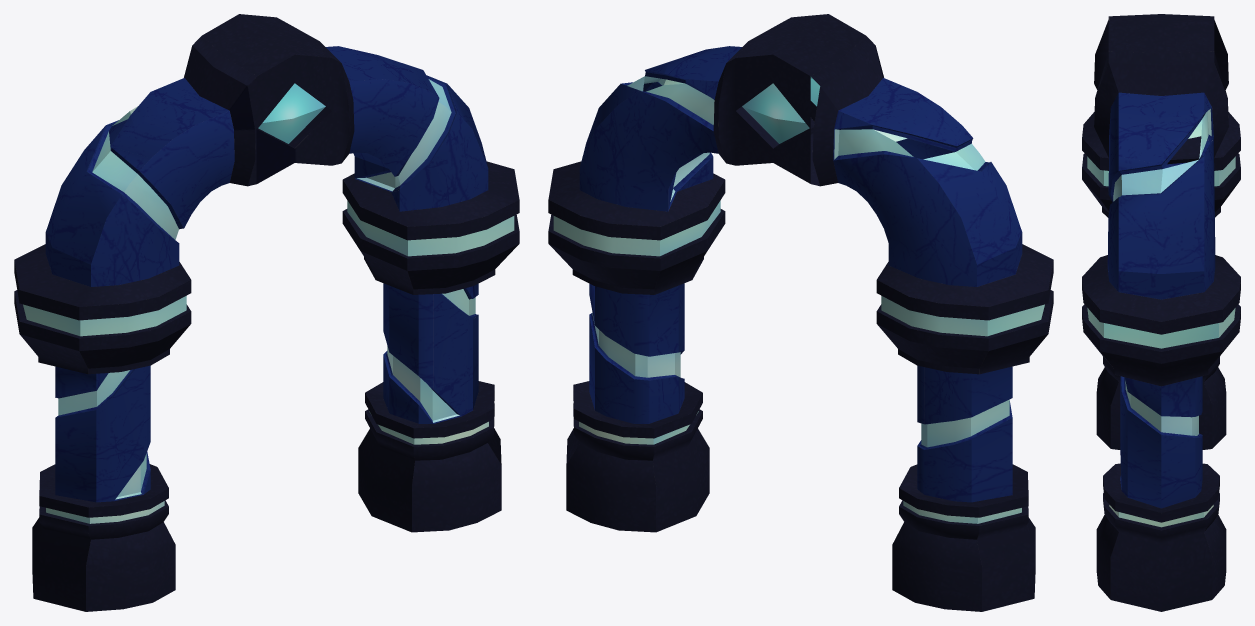
Rendered from ARCO4_R.obj.
3 views of the same model, side by side, from view 1: azimuth 30°, elevation 25°; view 2: azimuth 150°, elevation 25°; view 3: azimuth 270°, elevation 25° (orthographic). The views are drawn at different scales.
Parts seen in each view (by area): view 1: pCube1_pCube1SG1_29, pCube1_pCube1SG1_13, pCube1_pCube1SG_25, pCube1_pCube1SG_2, pCube1_pCube1SG_12, pCube1_pCube1SG1_16, pCube1_pCube1SG1_26, pCube1_pCube1SG, pCube1_pCube1SG_37, pCube1_pCube1SG_27, pCube1_pCube1SG1_10, pCube1_pCube1SG1_21 (+42 smaller); view 2: pCube1_pCube1SG1_29, pCube1_pCube1SG1_13, pCube1_pCube1SG_27, pCube1_pCube1SG_2, pCube1_pCube1SG_4, pCube1_pCube1SG_13, pCube1_pCube1SG1_18, pCube1_pCube1SG1_26, pCube1_pCube1SG1_7, pCube1_pCube1SG1_20, pCube1_pCube1SG_38, pCube1_pCube1SG1_4 (+41 smaller); view 3: pCube1_pCube1SG1_13, pCube1_pCube1SG_2, pCube1_pCube1SG1, pCube1_pCube1SG1_2, pCube1_pCube1SG, pCube1_pCube1SG1_10, pCube1_pCube1SG_3, pCube1_pCube1SG_4, pCube1_pCube1SG_19, pCube1_pCube1SG_1, pCube1_pCube1SG2_17, pCube1_pCube1SG_6 (+36 smaller).
Part boxes in pixels (<box>): pCube1_pCube1SG1_29: <box>55,120,183,502</box>; pCube1_pCube1SG1_13: <box>355,75,478,423</box>; pCube1_pCube1SG_25: <box>19,55,294,566</box>; pCube1_pCube1SG_2: <box>360,161,513,532</box>; pCube1_pCube1SG_12: <box>349,100,458,532</box>; pCube1_pCube1SG1_16: <box>52,96,229,286</box>; pCube1_pCube1SG1_26: <box>65,92,190,255</box>; pCube1_pCube1SG: <box>294,54,519,464</box>; pCube1_pCube1SG_37: <box>144,128,255,602</box>; pCube1_pCube1SG_27: <box>14,254,189,611</box>; pCube1_pCube1SG1_10: <box>339,46,472,210</box>; pCube1_pCube1SG1_21: <box>118,129,234,284</box>; pCube1_pCube1SG1_29: <box>833,125,1012,502</box>; pCube1_pCube1SG1_13: <box>589,70,713,423</box>; pCube1_pCube1SG_27: <box>773,55,1048,592</box>; pCube1_pCube1SG_2: <box>548,54,773,515</box>; pCube1_pCube1SG_4: <box>649,192,707,532</box>; pCube1_pCube1SG_13: <box>609,207,667,532</box>; pCube1_pCube1SG1_18: <box>838,96,1015,286</box>; pCube1_pCube1SG1_26: <box>834,111,1006,206</box>; pCube1_pCube1SG1_7: <box>626,129,718,211</box>; pCube1_pCube1SG1_20: <box>866,155,949,284</box>; pCube1_pCube1SG_38: <box>876,265,923,602</box>; pCube1_pCube1SG1_4: <box>597,101,680,206</box>; pCube1_pCube1SG1_13: <box>1108,108,1213,508</box>; pCube1_pCube1SG_2: <box>1110,52,1226,611</box>; pCube1_pCube1SG1: <box>1118,92,1161,299</box>; pCube1_pCube1SG1_2: <box>1161,92,1204,299</box>; pCube1_pCube1SG: <box>1095,52,1161,568</box>; pCube1_pCube1SG1_10: <box>1108,93,1213,231</box>; pCube1_pCube1SG_3: <box>1161,51,1214,164</box>; pCube1_pCube1SG_4: <box>1161,463,1212,611</box>; pCube1_pCube1SG_19: <box>1098,506,1224,599</box>; pCube1_pCube1SG_1: <box>1108,51,1161,95</box>; pCube1_pCube1SG2_17: <box>1113,111,1208,201</box>; pCube1_pCube1SG_6: <box>1100,98,1228,537</box>.
Size of the model in its own units: 552 by 540 by 161.
3 materials, 3 textured.
